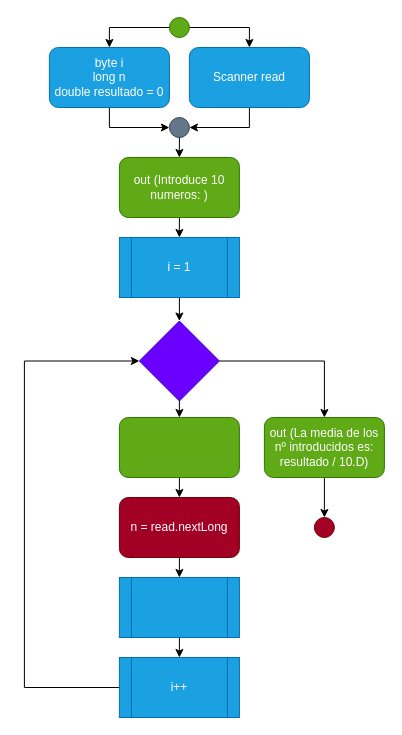
Some shapes in this 402 by 735 pixel diagram are drawn without their labels. The centre of each missing label's shape, as x and y in pixels:
"for (i <= 10)" goes at (x=178, y=360).
"out ([i] ->)" goes at (x=178, y=447).
"resultado += n" goes at (x=178, y=607).
